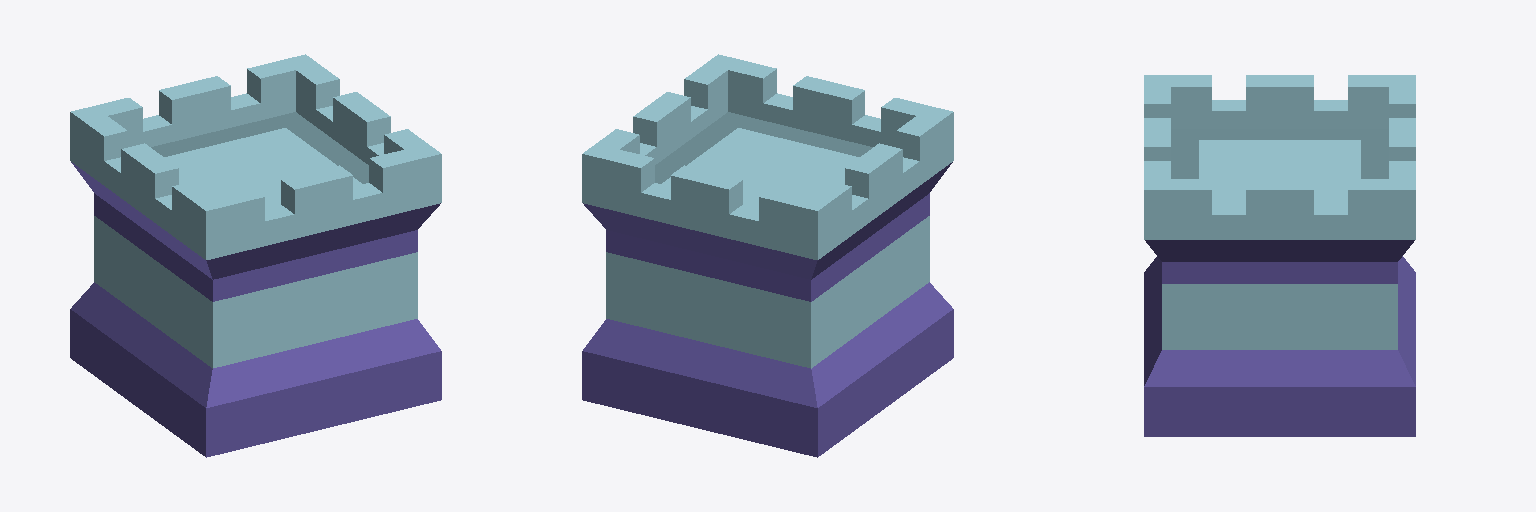
File: Sniper.obj
The picture shows the model from 3 angles: view 1: azimuth 30°, elevation 25°; view 2: azimuth 150°, elevation 25°; view 3: azimuth 270°, elevation 25°; orthographic projection.
Visible parts, largest first — view 1: Sniper; view 2: Sniper; view 3: Sniper.
Boxes of the visible parts, x1=… form: Sniper: x1=70, y1=54, x2=441, y2=457; Sniper: x1=582, y1=54, x2=953, y2=457; Sniper: x1=1144, y1=75, x2=1415, y2=436.
Bounding box in the file's own units: 1 × 1 × 1.